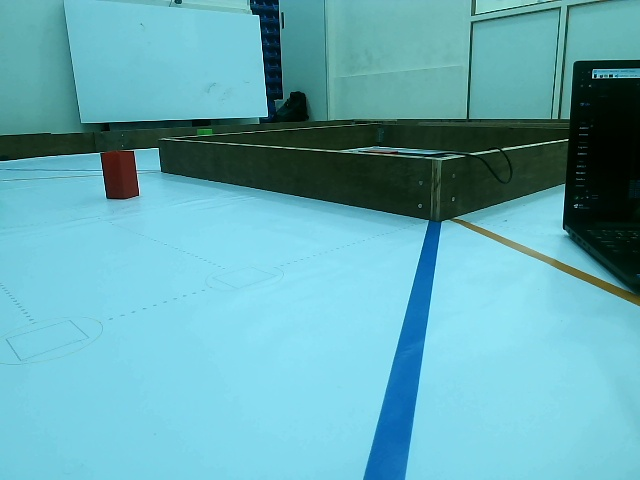red: (103, 150, 139, 201)
